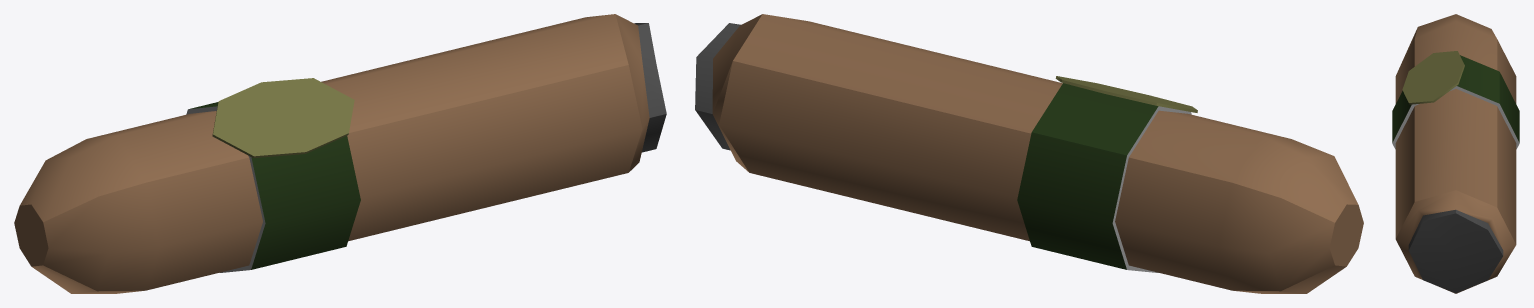
Rendered from usedCigar.fbx.
The picture shows the model from 3 angles, left to right: view 1: azimuth 30°, elevation 25°; view 2: azimuth 150°, elevation 25°; view 3: azimuth 270°, elevation 25°; orthographic projection. The views are drawn at different scales.
Visible parts, largest first — view 1: cigar, cigarLabel; view 2: cigar, cigarLabel; view 3: cigar, cigarLabel.
Boxes of the visible parts, left/top/right/bottom form: cigar: left=14, top=14, right=666, bottom=293; cigarLabel: left=212, top=78, right=354, bottom=158; cigar: left=695, top=14, right=1363, bottom=293; cigarLabel: left=1055, top=76, right=1197, bottom=112; cigar: left=1392, top=14, right=1519, bottom=293; cigarLabel: left=1402, top=51, right=1464, bottom=104.
Size of the model in its own units: 6.08 by 1.62 by 1.55.
